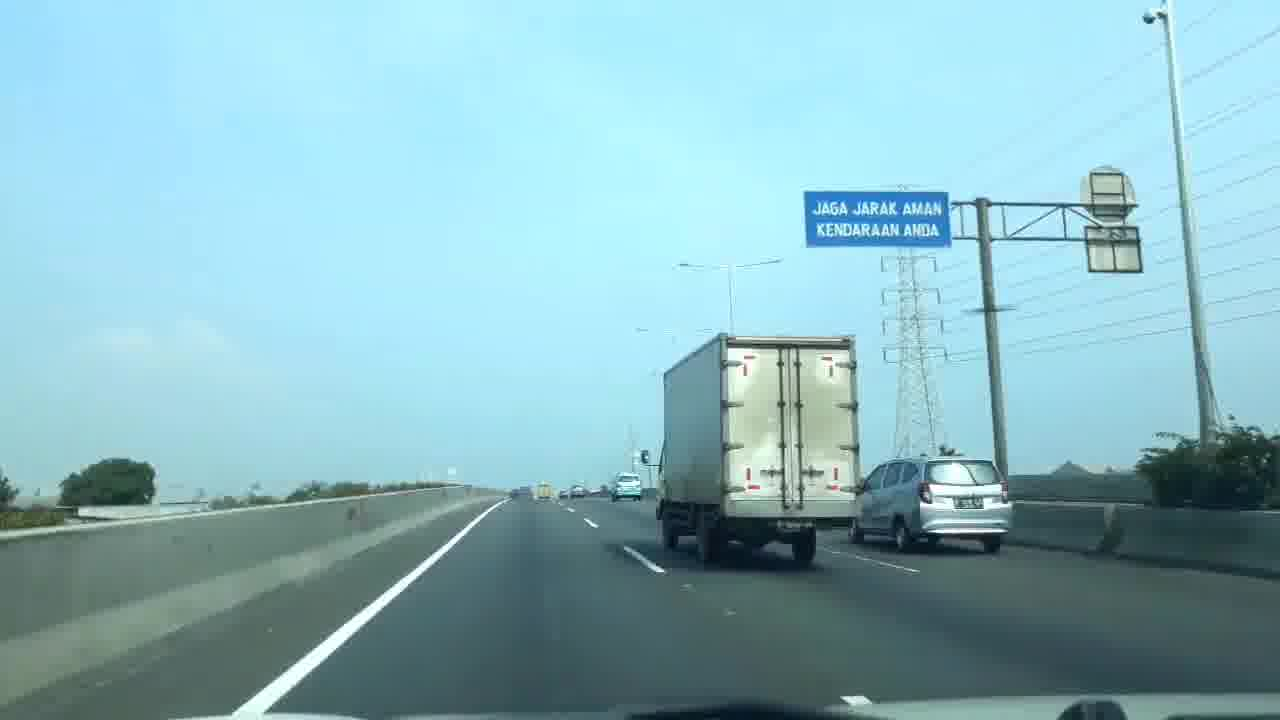plate_positive: (773, 519, 814, 532), (952, 496, 984, 508)
